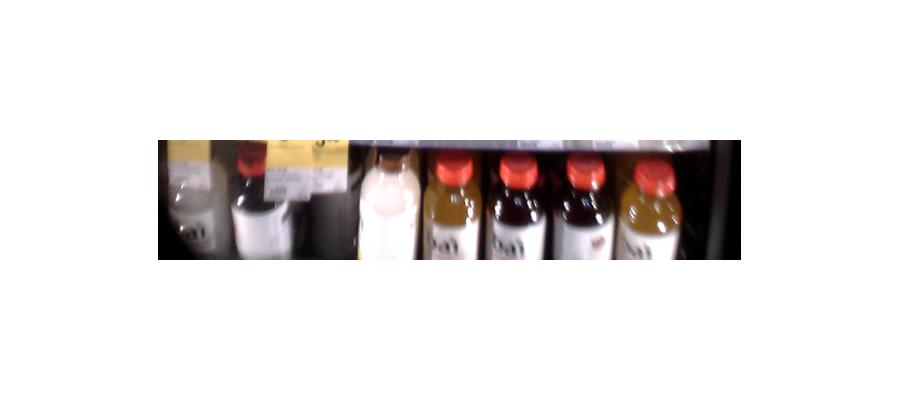bottle: (354, 143, 419, 264), (230, 144, 297, 258), (167, 143, 233, 254), (617, 160, 682, 265), (485, 161, 549, 267), (422, 155, 482, 264), (551, 162, 612, 265)
